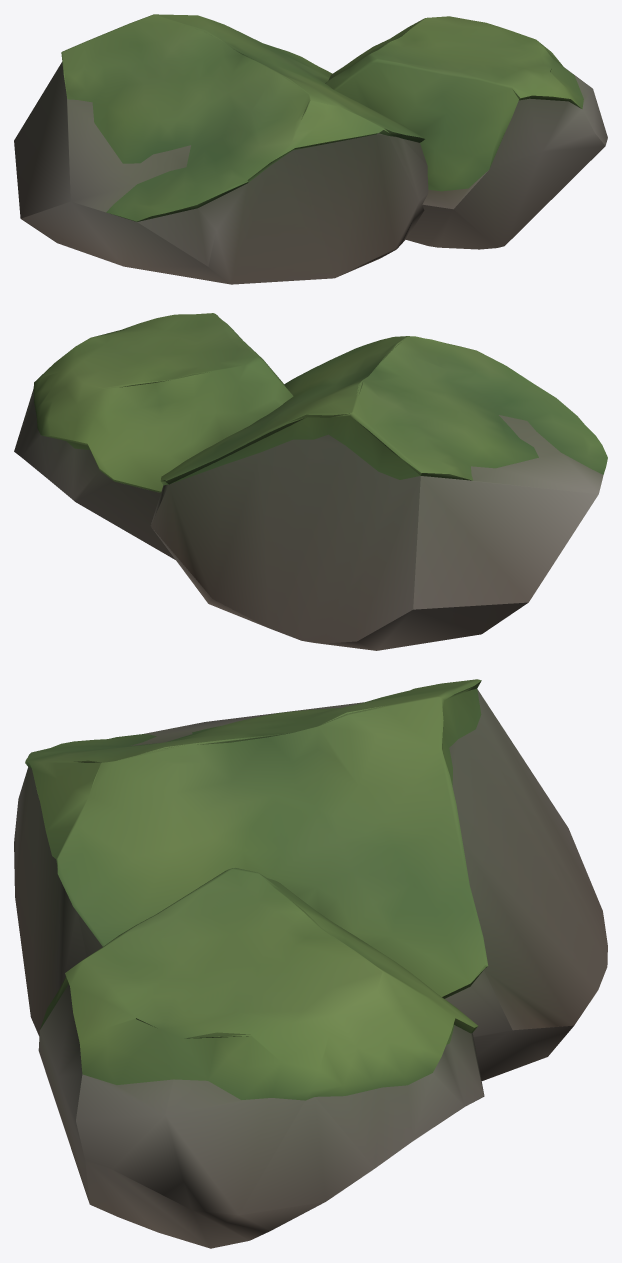
Rendered from boulder_c.glb.
3 views of the same model, one above another, from view 1: azimuth 30°, elevation 25°; view 2: azimuth 150°, elevation 25°; view 3: azimuth 270°, elevation 25° (orthographic). The views are drawn at different scales.
Parts seen in each view (by area): view 1: Boulder_c; view 2: Boulder_c; view 3: Boulder_c.
Boxes of the visible parts, x1=… form: Boulder_c: x1=14, y1=14, x2=607, y2=284; Boulder_c: x1=14, y1=313, x2=607, y2=650; Boulder_c: x1=14, y1=679, x2=607, y2=1248.
Bounding box in the file's own units: 1.24 × 0.5009 × 0.7648.
